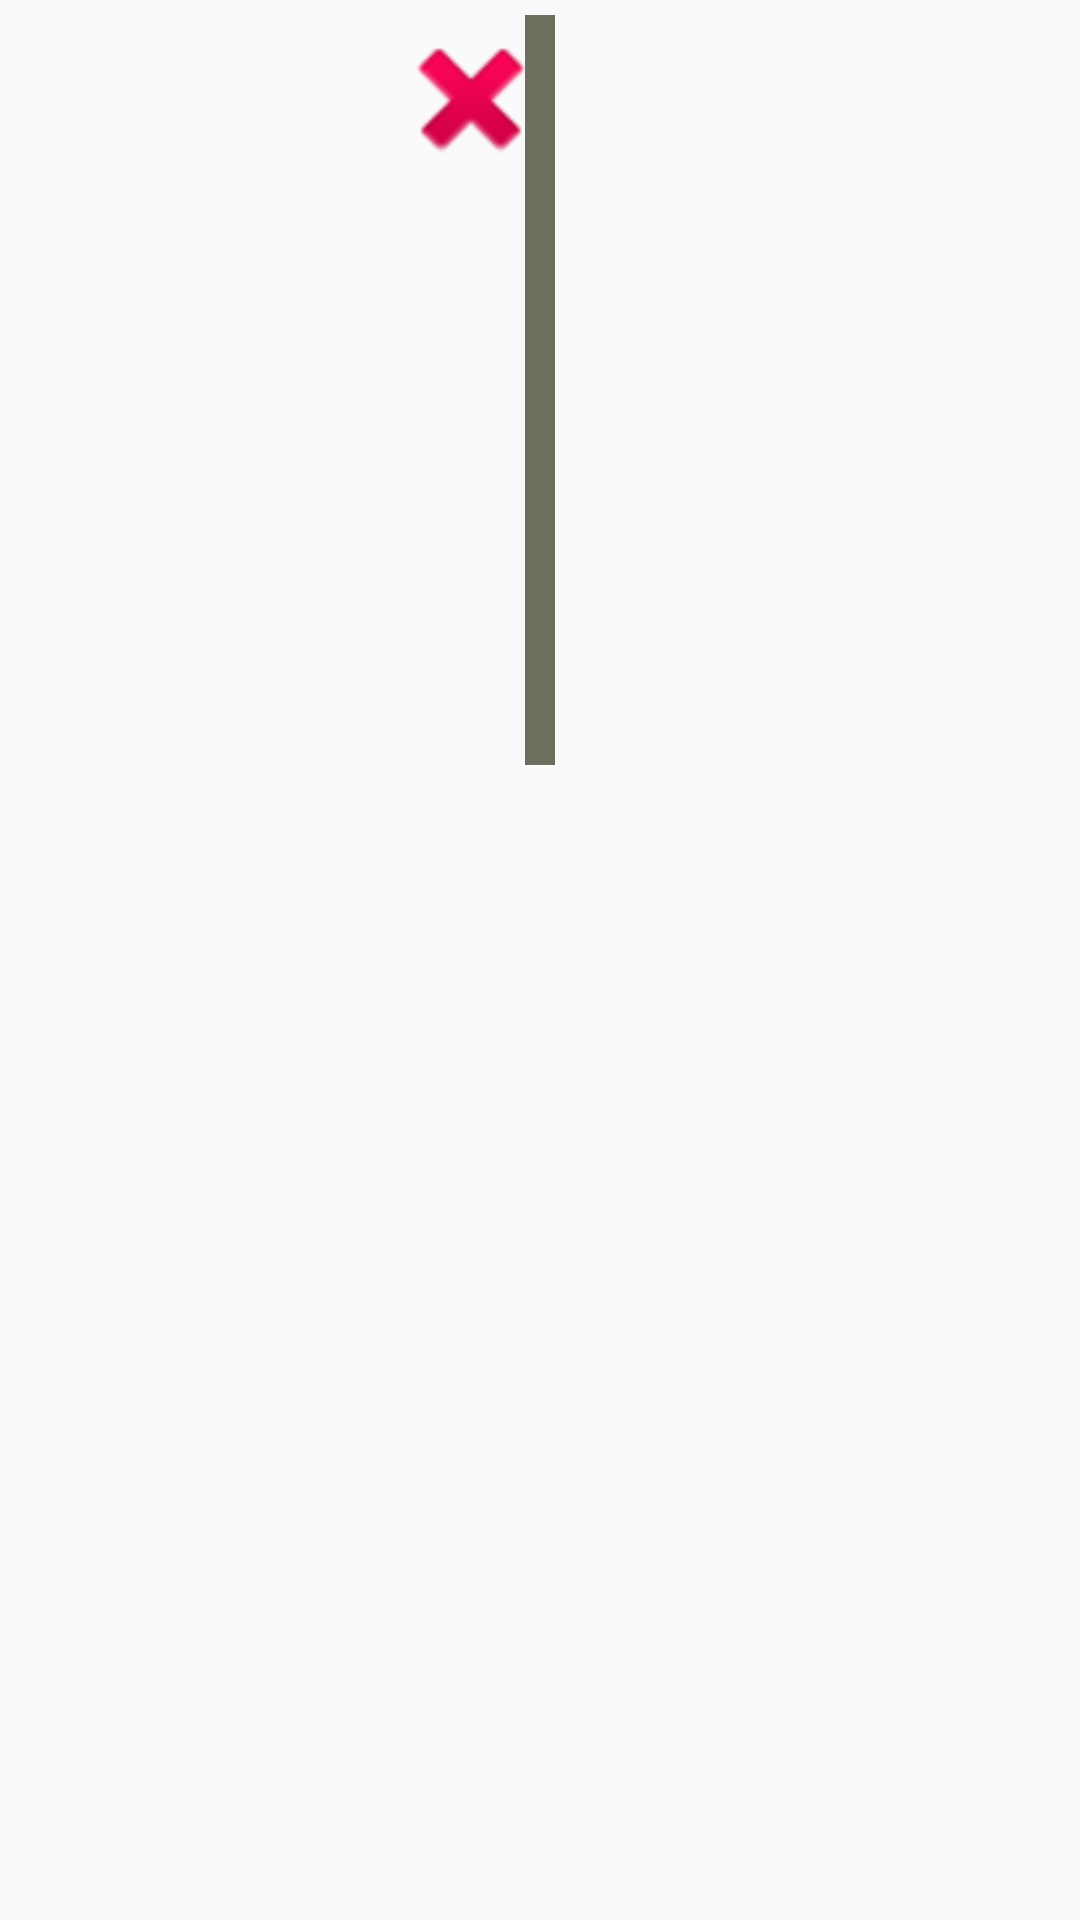

Icons on this 1080w x 1920h Android screen, each with the point to tap as (x=x, y=y):
delete: (x=471, y=99)
